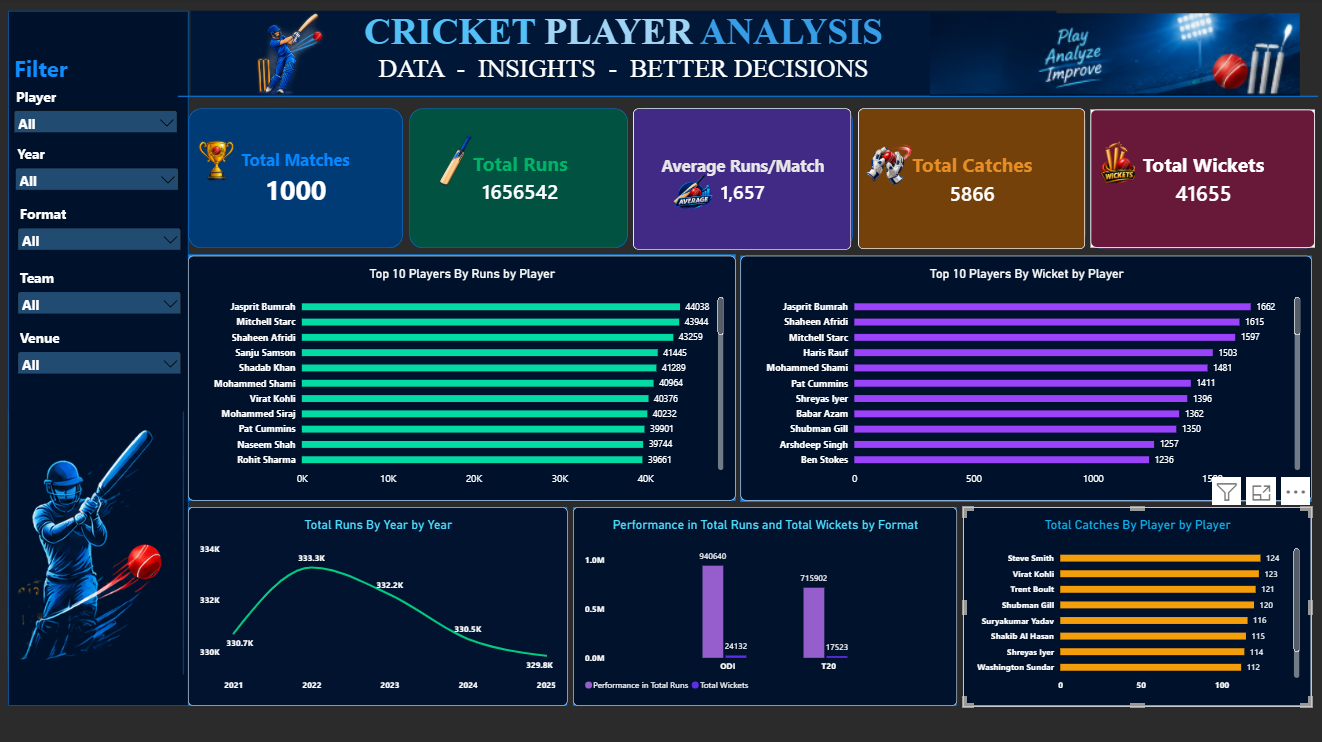

The page's visual inventory and layout, read from the dashboard file:
{"tool":"powerbi","page":{"name":"Page 1","canvas":[1920,1080],"ordinal":0},"visuals":[{"type":"textbox","box":[277.9,20.6,1253.5,123.5],"z":0},{"type":"shape","box":[14.4,20.6,261.4,1006.5],"z":1000},{"type":"shape","box":[260.6,133.9,1652.2,19.9],"z":2000},{"type":"shape","box":[275.1,161.1,311.3,202.7],"z":3000},{"type":"shape","box":[1245,161.1,329.4,202.7],"z":4000},{"type":"shape","box":[1581.6,162.9,325.7,202.7],"z":5000},{"type":"shape","box":[921.1,161.1,316.7,202.7],"z":6000},{"type":"cardVisual","fields":{"Data":["Cricket_Data.Total Matches"]},"box":[275.1,161.1,311.3,202.7],"z":7000},{"type":"shape","box":[595.4,161.1,316.7,202.7],"z":8000},{"type":"cardVisual","fields":{"Data":["Sum(Cricket_Data.Runs)"]},"box":[600.8,161.1,311.3,202.7],"z":9000},{"type":"cardVisual","fields":{"Data":["Cricket_Data.Average Runs per Match"]},"box":[920.1,160.5,317,205.8],"z":10000},{"type":"cardVisual","fields":{"Data":["Sum(Cricket_Data.Catches)"]},"box":[1245,161.1,329.4,204.5],"z":11000},{"type":"cardVisual","fields":{"Data":["Sum(Cricket_Data.Wickets)"]},"box":[1581.6,162.9,325.7,200.9],"z":12000},{"type":"shape","box":[275.1,372.8,792.6,356.5],"z":13000},{"type":"shape","box":[1074.9,374.6,827,356.5],"z":14000},{"type":"shape","box":[275.1,738.3,549.1,287.7],"z":15000},{"type":"shape","box":[832.4,738.3,555.6,287.7],"z":16000},{"type":"shape","box":[1397.4,738.3,504.5,287.7],"z":17000},{"type":"barChart","fields":{"Category":["Cricket_Data.Player"],"Y":["Sum(Cricket_Data.Runs)"]},"box":[275.8,374.6,792.5,354],"z":18000},{"type":"barChart","fields":{"Category":["Cricket_Data.Player"],"Y":["Sum(Cricket_Data.Wickets)"]},"box":[1074.4,374.6,827.4,354],"z":19000},{"type":"lineChart","fields":{"Category":["Cricket_Data.Year"],"Y":["Sum(Cricket_Data.Runs)"]},"box":[275.8,738.9,549.6,288.2],"z":20000},{"type":"clusteredColumnChart","fields":{"Category":["Cricket_Data.Format"],"Y":["Sum(Cricket_Data.Runs)","Sum(Cricket_Data.Wickets)"]},"box":[831.6,738.9,555.7,288.2],"z":21000},{"type":"image","box":[277.9,205.8,74.1,59.7],"z":22000},{"type":"slicer","fields":{"Values":["Cricket_Data.Player"]},"box":[18.5,129.7,247,65.9],"z":23000},{"type":"slicer","fields":{"Values":["Cricket_Data.Year"]},"box":[20.6,214.1,247,65.9],"z":24000},{"type":"slicer","fields":{"Values":["Cricket_Data.Format"]},"box":[22.6,300.5,247,65.9],"z":25000},{"type":"slicer","fields":{"Values":["Cricket_Data.Team"]},"box":[22.6,393.1,247,65.9],"z":26000},{"type":"slicer","fields":{"Values":["Cricket_Data.Venue"]},"box":[22.6,479.6,247,65.9],"z":27000},{"type":"image","box":[634,199.7,55.6,74.1],"z":28000},{"type":"image","box":[336,20,158,124],"z":29000},{"type":"image","box":[1331.7,22.6,570.2,119.4],"z":30000},{"type":"clusteredBarChart","fields":{"Category":["Cricket_Data.Player"],"Y":["Sum(Cricket_Data.Catches)"]},"box":[1397.6,738.9,504.3,288.2],"z":30001},{"type":"image","box":[8.2,553.7,261.4,473.4],"z":30002},{"type":"image","box":[1206.2,207.9,162.6,65.9],"z":30003},{"type":"textbox","box":[22.6,82.3,96.7,43.2],"z":30004},{"type":"image","box":[977.7,236.7,57.6,88.5],"z":30005},{"type":"image","box":[1574.6,207.9,92.6,61.7],"z":30006}]}

Visuals, with their boxes in screenshot pixels (x1, y1, x2, y2), scaled from the page's 1920x1080 canvas onto the 1322x742 screenshot:
textbox: 191/14/1054/99
shape: 10/14/190/706
shape: 179/92/1317/106
shape: 189/111/404/250
shape: 857/111/1084/250
shape: 1089/112/1313/251
shape: 634/111/852/250
cardVisual - Cricket_Data.Total Matches: 189/111/404/250
shape: 410/111/628/250
cardVisual - Sum(Cricket_Data.Runs): 414/111/628/250
cardVisual - Cricket_Data.Average Runs per Match: 634/110/852/252
cardVisual - Sum(Cricket_Data.Catches): 857/111/1084/251
cardVisual - Sum(Cricket_Data.Wickets): 1089/112/1313/250
shape: 189/256/735/501
shape: 740/257/1310/502
shape: 189/507/567/705
shape: 573/507/956/705
shape: 962/507/1310/705
barChart - Cricket_Data.Player x Sum(Cricket_Data.Runs): 190/257/736/501
barChart - Cricket_Data.Player x Sum(Cricket_Data.Wickets): 740/257/1309/501
lineChart - Cricket_Data.Year x Sum(Cricket_Data.Runs): 190/508/568/706
clusteredColumnChart - Cricket_Data.Format x Sum(Cricket_Data.Runs): 573/508/955/706
image: 191/141/242/182
slicer - Cricket_Data.Player: 13/89/183/134
slicer - Cricket_Data.Year: 14/147/184/192
slicer - Cricket_Data.Format: 16/206/186/252
slicer - Cricket_Data.Team: 16/270/186/315
slicer - Cricket_Data.Venue: 16/330/186/375
image: 437/137/475/188
image: 231/14/340/99
image: 917/16/1310/98
clusteredBarChart - Cricket_Data.Player x Sum(Cricket_Data.Catches): 962/508/1310/706
image: 6/380/186/706
image: 831/143/942/188
textbox: 16/57/82/86
image: 673/163/713/223
image: 1084/143/1148/185
